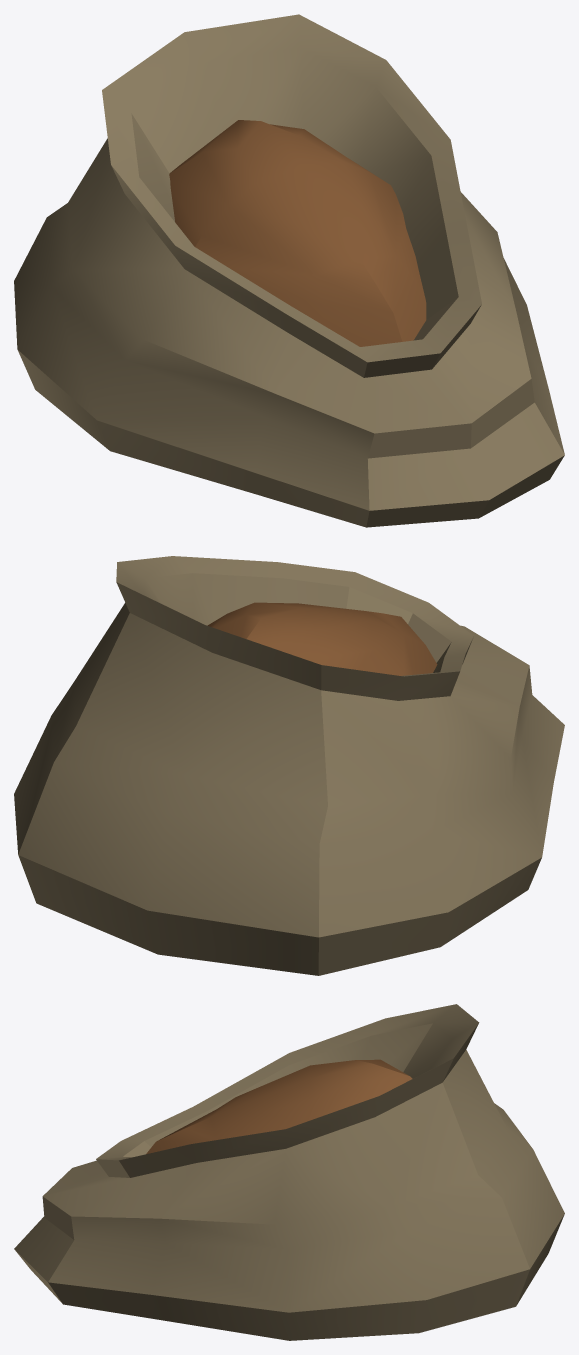
The model's file is Bag_Open.glb.
3 renders of one model, top to bottom at view 1: azimuth 30°, elevation 25°; view 2: azimuth 150°, elevation 25°; view 3: azimuth 270°, elevation 25°, orthographic. The views are drawn at different scales.
Parts seen in each view (by area): view 1: Bag_Open_Cube.257; view 2: Bag_Open_Cube.257; view 3: Bag_Open_Cube.257.
Boxes of the visible parts, x1,y1,x2,y2 form: Bag_Open_Cube.257: (14, 14, 564, 527); Bag_Open_Cube.257: (14, 556, 564, 975); Bag_Open_Cube.257: (14, 1004, 564, 1340).
Bounding box in the file's own units: 0.1502 × 0.1044 × 0.2035.
